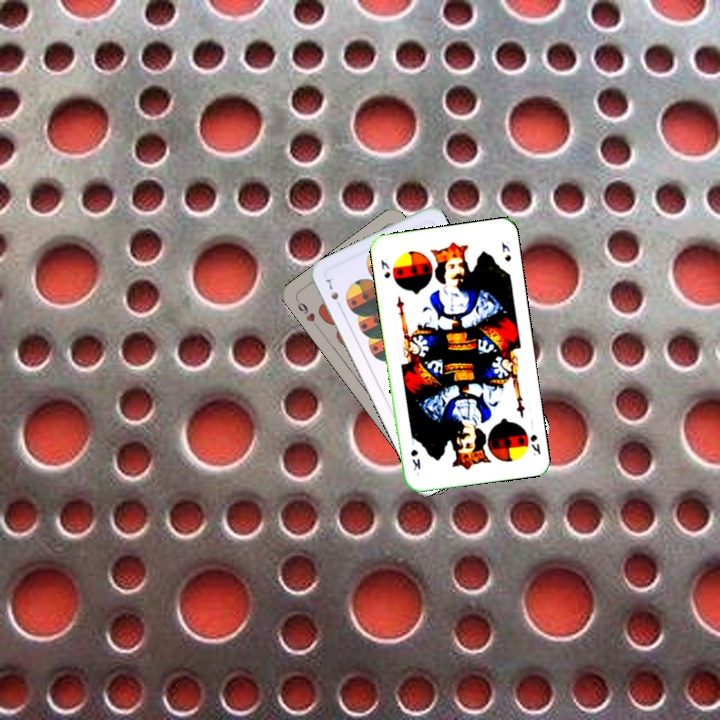H9: (292, 295, 321, 330)
S7: (322, 275, 344, 311)
SK: (526, 430, 543, 458), (377, 256, 393, 281)
